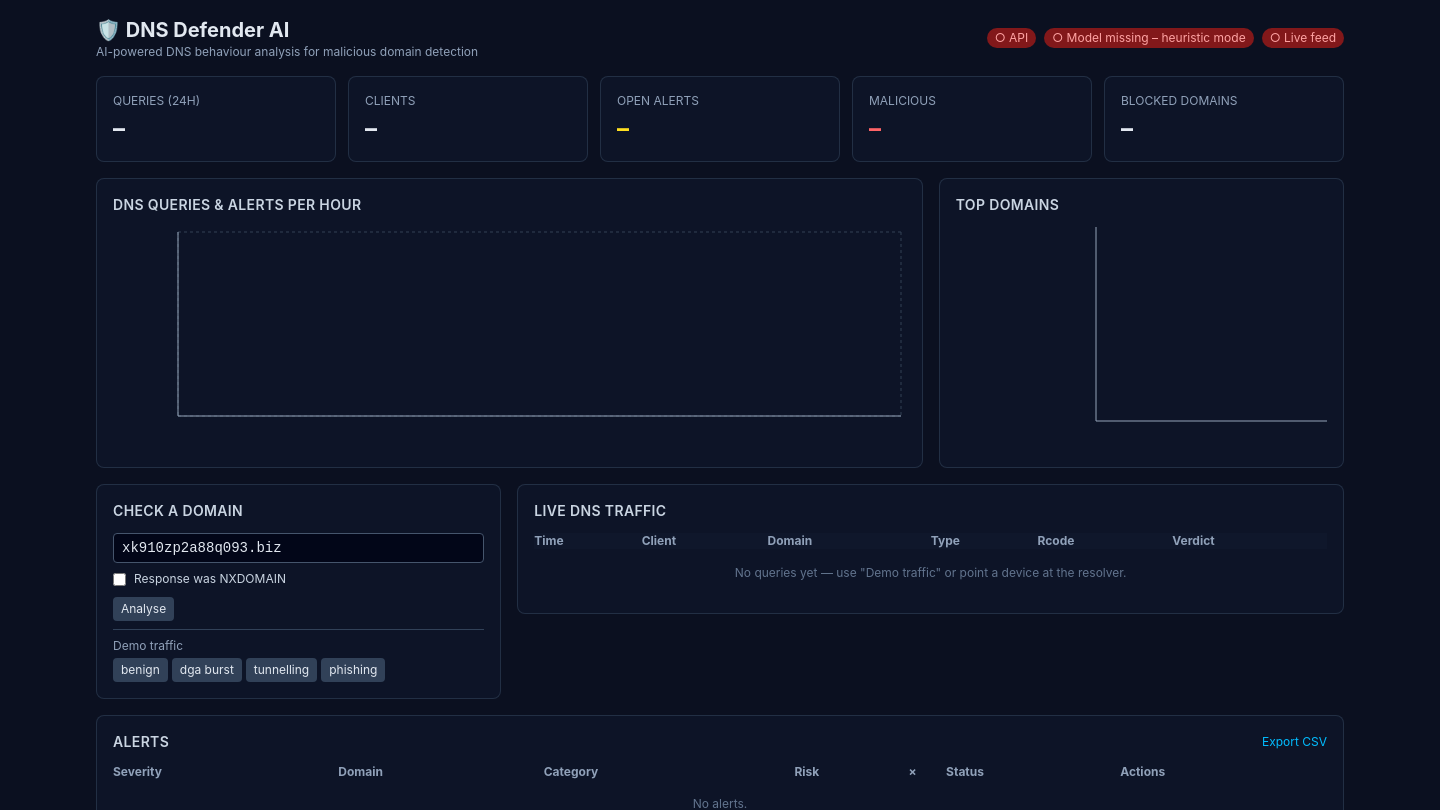
Test: checking a domain posts to the API and shows the verdict
Click the button "Analyse" at (144, 609), box [113,597,174,621]
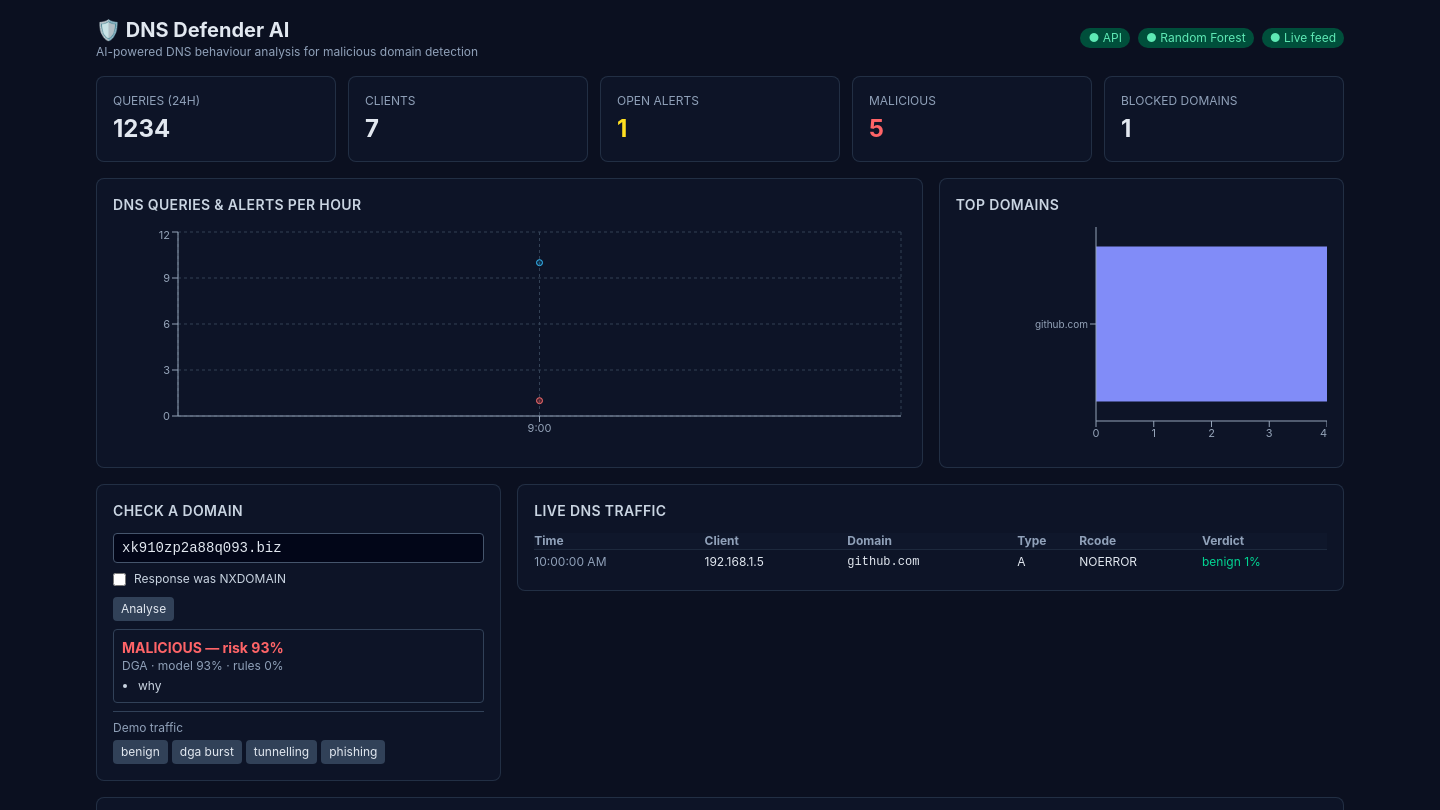
Expected: the text "MALICIOUS — risk 93%" is shown, [122,639,284,656]
